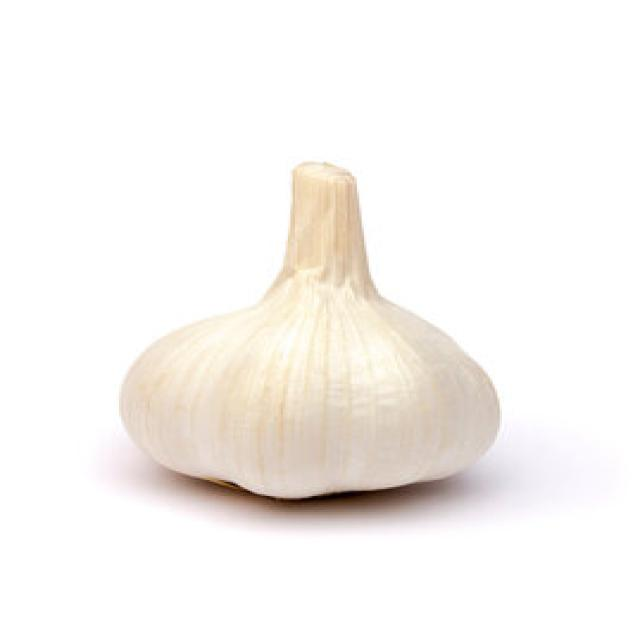garlic: (116, 282, 513, 514)
